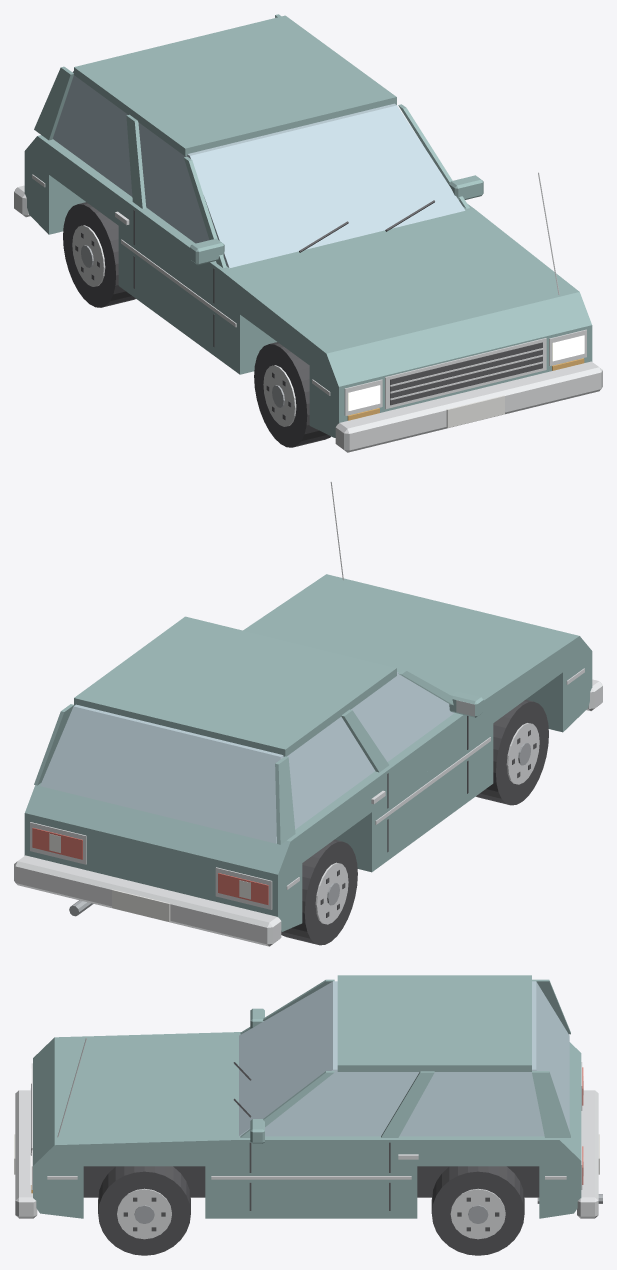
Rendered from car_hatch_t.glb.
3 renders of one model, top to bottom at view 1: azimuth 30°, elevation 25°; view 2: azimuth 150°, elevation 25°; view 3: azimuth 270°, elevation 25°, orthographic. The views are drawn at different scales.
Parts seen in each view (by area): view 1: car_hatch_t_car_t, car_hatch_t_glass, car_hatch_t_chrome, car_hatch_t_rubber, car_hatch_t_dark, car_hatch_t_lamp_glass, car_hatch_t_paint_w; view 2: car_hatch_t_car_t, car_hatch_t_glass, car_hatch_t_chrome, car_hatch_t_rubber, car_hatch_t_neon_r, car_hatch_t_paint_w, car_hatch_t_steel; view 3: car_hatch_t_car_t, car_hatch_t_glass, car_hatch_t_rubber, car_hatch_t_chrome, car_hatch_t_dark, car_hatch_t_steel.
Boxes of the visible parts, x1,y1,x2,y2 form: car_hatch_t_car_t: (24, 14, 592, 437); car_hatch_t_glass: (53, 71, 465, 268); car_hatch_t_chrome: (14, 172, 602, 452); car_hatch_t_rubber: (63, 202, 330, 447); car_hatch_t_dark: (75, 200, 542, 420); car_hatch_t_lamp_glass: (348, 335, 584, 410); car_hatch_t_paint_w: (446, 395, 504, 427); car_hatch_t_car_t: (24, 574, 592, 931); car_hatch_t_glass: (40, 672, 454, 843); car_hatch_t_chrome: (14, 481, 602, 946); car_hatch_t_rubber: (281, 699, 548, 945); car_hatch_t_neon_r: (32, 828, 268, 904); car_hatch_t_paint_w: (49, 833, 250, 921); car_hatch_t_steel: (69, 742, 530, 916); car_hatch_t_car_t: (33, 975, 581, 1218); car_hatch_t_glass: (239, 981, 569, 1136); car_hatch_t_rubber: (83, 1166, 539, 1255); car_hatch_t_chrome: (15, 1038, 598, 1239); car_hatch_t_dark: (31, 1062, 499, 1231); car_hatch_t_steel: (134, 1194, 602, 1223).
Size of the model in its own units: 2 by 1.6 by 4.06.
